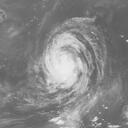cyclone: (39, 16, 108, 96)
